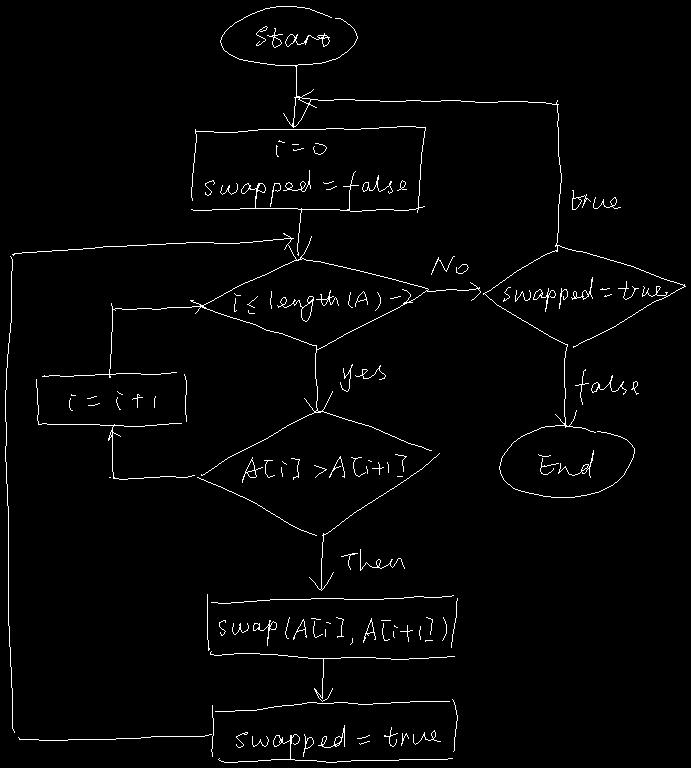arrow: (5, 233, 293, 740), (294, 89, 561, 251), (109, 300, 205, 377), (108, 424, 194, 479), (304, 346, 332, 412), (555, 344, 576, 427), (283, 66, 310, 127), (309, 533, 333, 590), (288, 208, 311, 260), (426, 282, 480, 300), (314, 658, 332, 701)
decision: (197, 411, 439, 535), (200, 257, 428, 349), (483, 245, 685, 347)
process: (191, 126, 425, 212), (207, 594, 457, 659), (211, 699, 457, 762), (36, 372, 186, 426)
terminator: (499, 425, 634, 497), (220, 6, 357, 65)
text: (205, 140, 406, 209), (236, 725, 440, 758), (219, 617, 446, 645), (234, 289, 412, 321), (503, 277, 667, 311), (242, 454, 406, 482), (575, 369, 638, 404), (69, 391, 155, 410), (256, 26, 329, 47), (538, 450, 593, 477), (341, 549, 404, 570), (340, 364, 385, 391), (572, 190, 620, 209), (431, 256, 468, 274)
